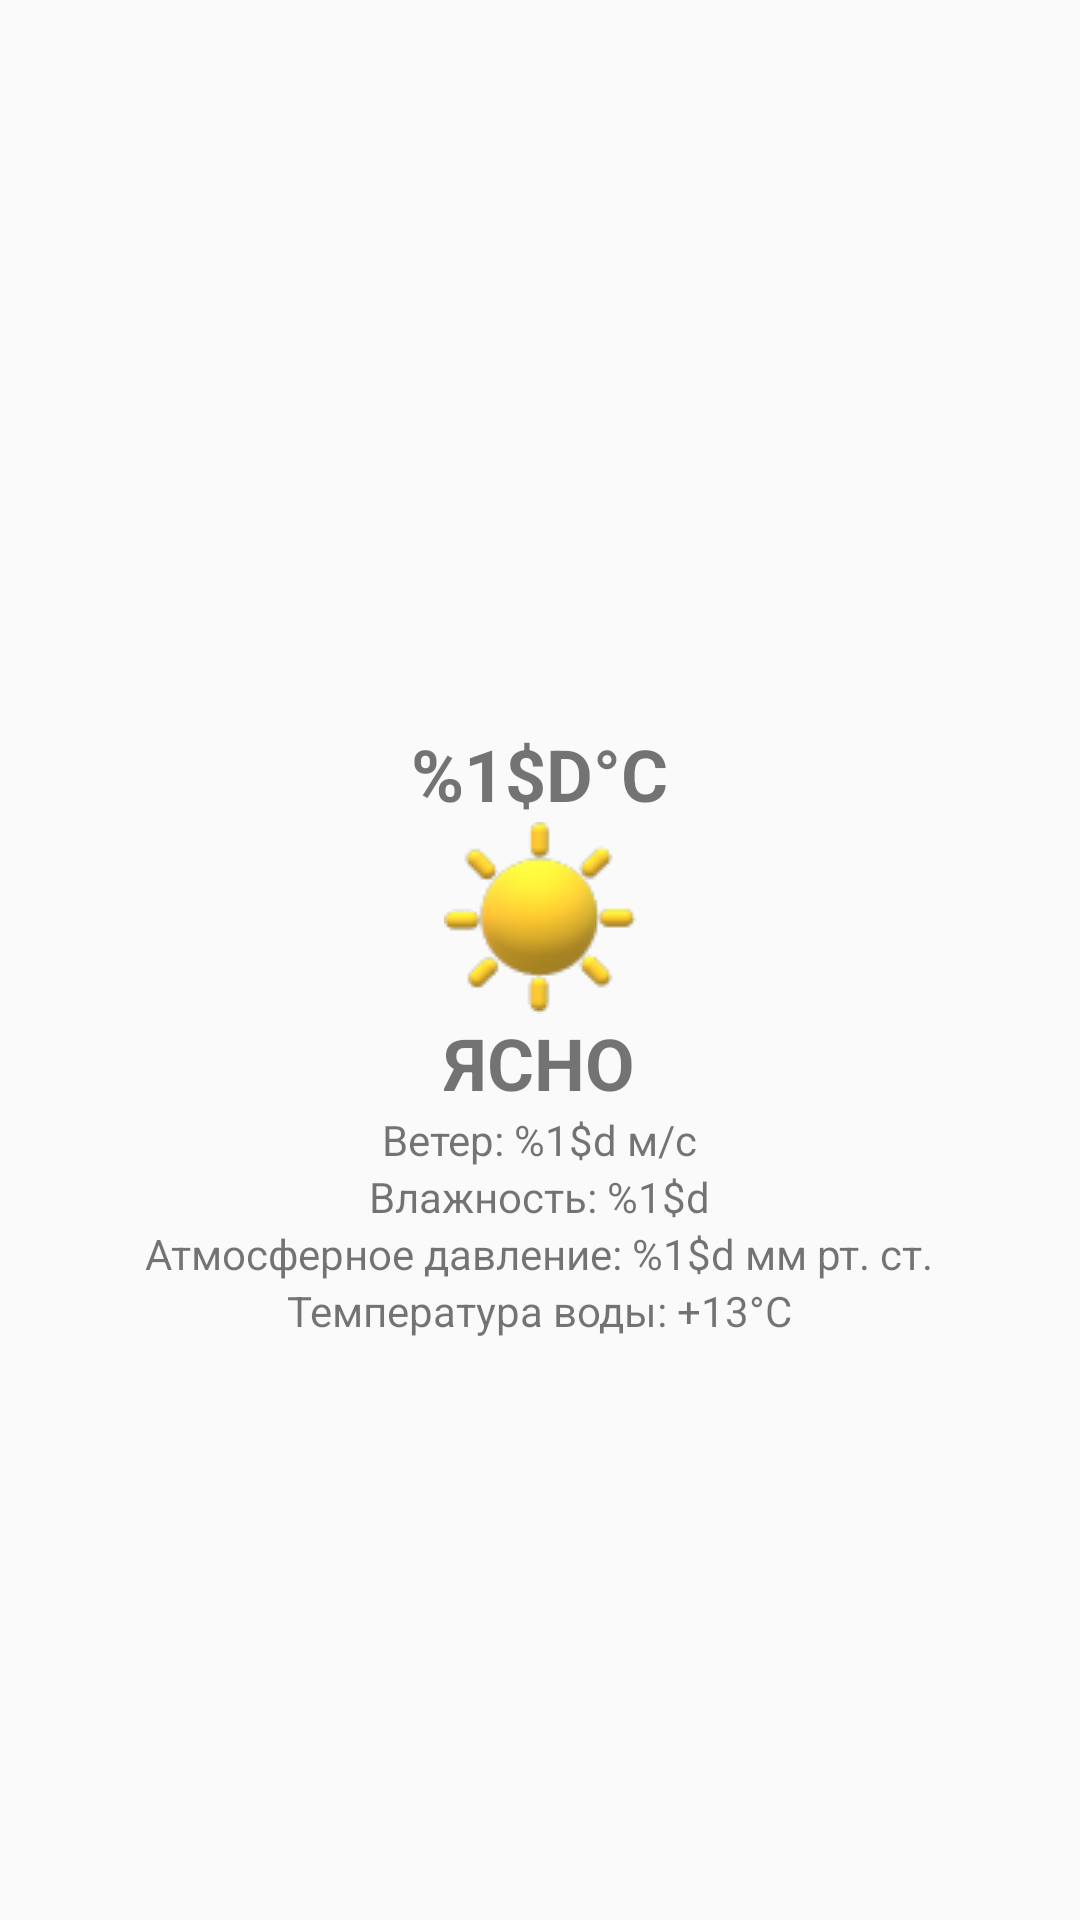

Where icons sit on this 1080*1920 app screen, as (x1,y1,x2,y2):
sun: (444,822,636,1012)
